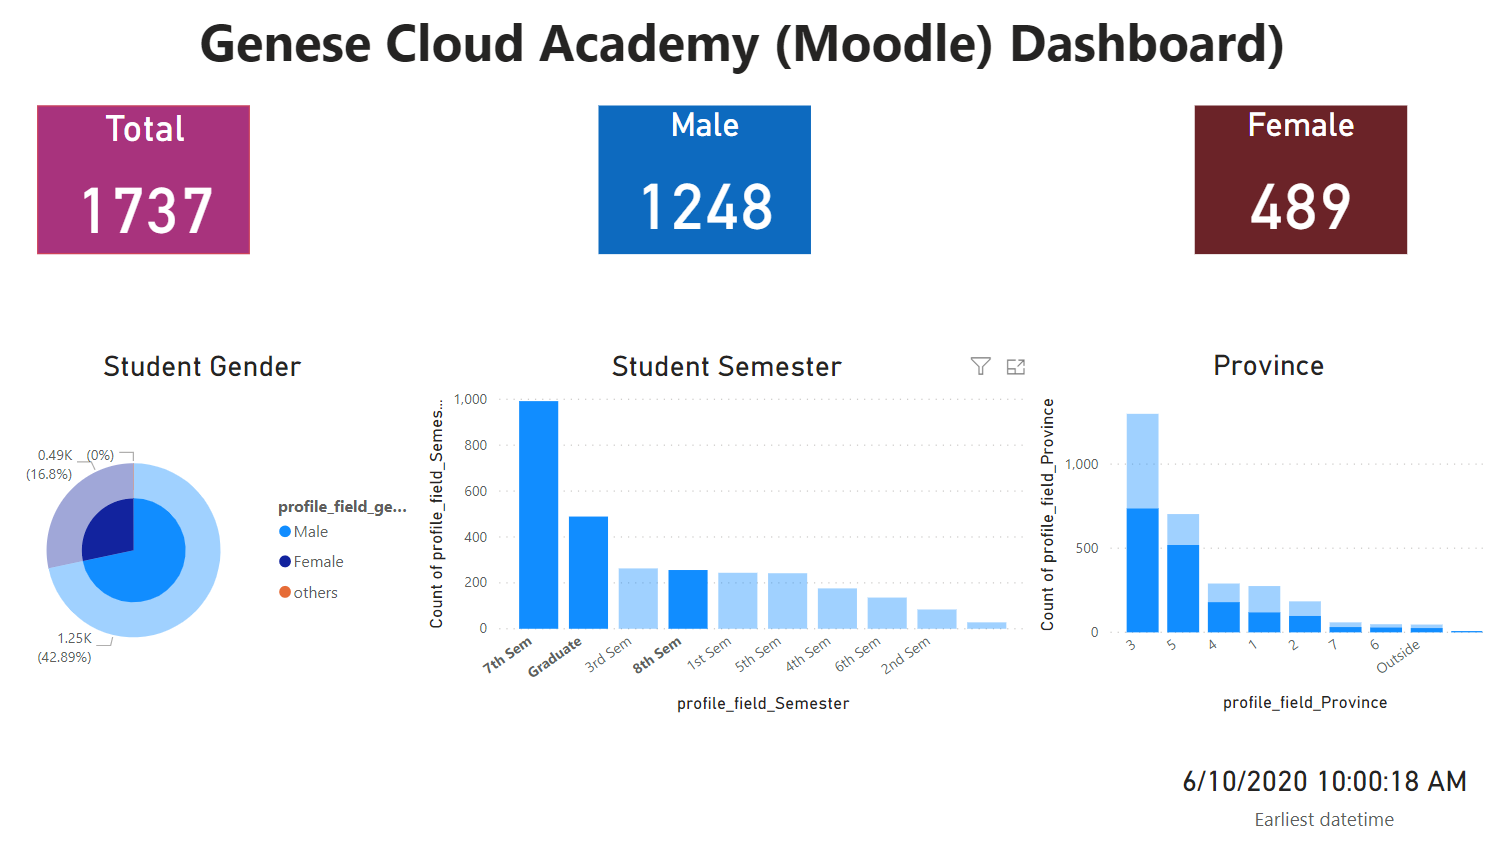

The page's visual inventory and layout, read from the dashboard file:
{"tool":"powerbi","page":{"name":"Dashboard","canvas":[1280,720],"ordinal":0},"visuals":[{"type":"pieChart","title":"Student Gender","fields":{"Category":["user_latest.profile_field_gender1"],"Series":["user_latest.profile_field_gender1"],"Y":["CountNonNull(user_latest.profile_field_gender)"]},"box":[2.1,303.2,367.2,310.5],"z":0},{"type":"columnChart","title":"Student Semester","fields":{"Category":["user_latest.profile_field_Semester1"],"Y":["CountNonNull(user_latest.profile_field_Semester)1"]},"box":[369.4,303.2,513.4,310.5],"z":1000},{"type":"columnChart","title":"Province","fields":{"Category":["user_latest.profile_field_Province1"],"Y":["CountNonNull(user_latest.profile_field_Province)1"]},"box":[882.3,302.7,397.4,310.5],"z":2000},{"type":"card","title":"Total","fields":{"Values":["CountNonNull(user_latest.id)"]},"box":[47.1,98.8,178.8,124.4],"z":3000},{"type":"card","title":"Male","fields":{"Values":["CountNonNull(user_latest.profile_field_gender)"]},"box":[518.2,98.8,178.8,124.4],"z":4000},{"type":"card","title":"Female","fields":{"Values":["CountNonNull(user_latest.profile_field_gender)"]},"box":[1019.5,98.8,178.8,124.4],"z":5000},{"type":"textbox","box":[0,10.9,1279.3,72.5],"z":6000},{"type":"card","fields":{"Values":["Min(Kathmandu.datetime)"]},"box":[994.2,641.5,268.2,68.9],"z":7000}]}

Visuals, with their boxes in screenshot pixels (x1, y1, x2, y2), scaled from the page's 1280x720 canvas onto the 1487x842 screenshot:
"Student Gender" pieChart: {"left": 2, "top": 355, "right": 429, "bottom": 718}
"Student Semester" columnChart: {"left": 429, "top": 355, "right": 1026, "bottom": 718}
"Province" columnChart: {"left": 1025, "top": 354, "right": 1486, "bottom": 717}
"Total" card: {"left": 55, "top": 116, "right": 262, "bottom": 261}
"Male" card: {"left": 602, "top": 116, "right": 810, "bottom": 261}
"Female" card: {"left": 1184, "top": 116, "right": 1392, "bottom": 261}
textbox: {"left": 0, "top": 13, "right": 1486, "bottom": 98}
card - Min(Kathmandu.datetime): {"left": 1155, "top": 750, "right": 1467, "bottom": 831}
